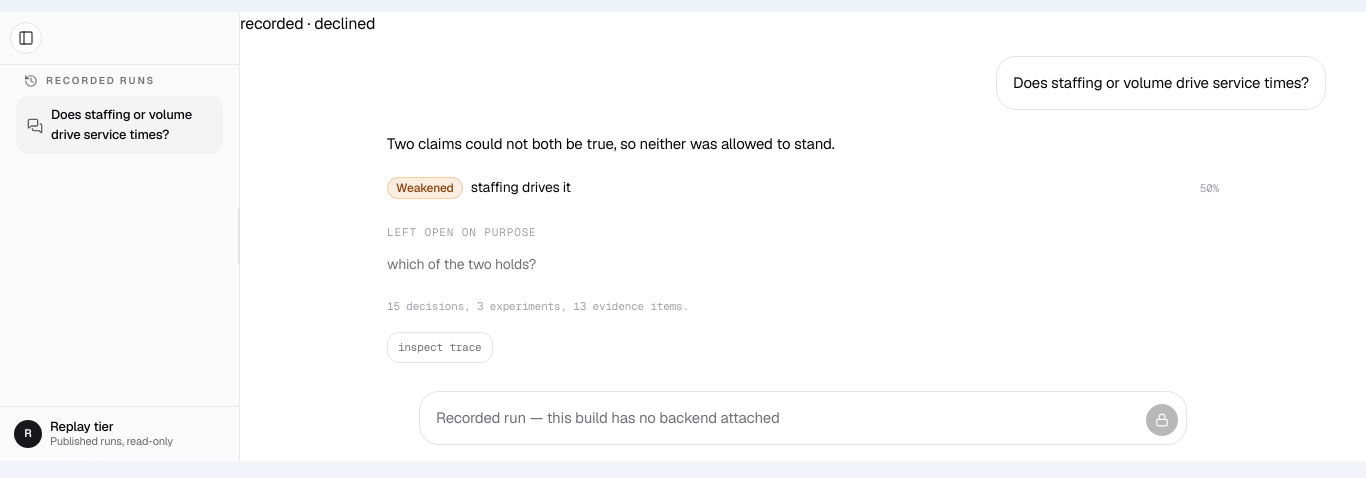
Test: ChatShell › read-only (replay tier) › keeps the trace collapsed until the answer's control asks for it
Expected: the text "The trace" is not shown
What coordinates should you click on to do the following:
click the button "inspect trace"
I would click on:
 (440, 347)
Its box is [387,332,492,362].
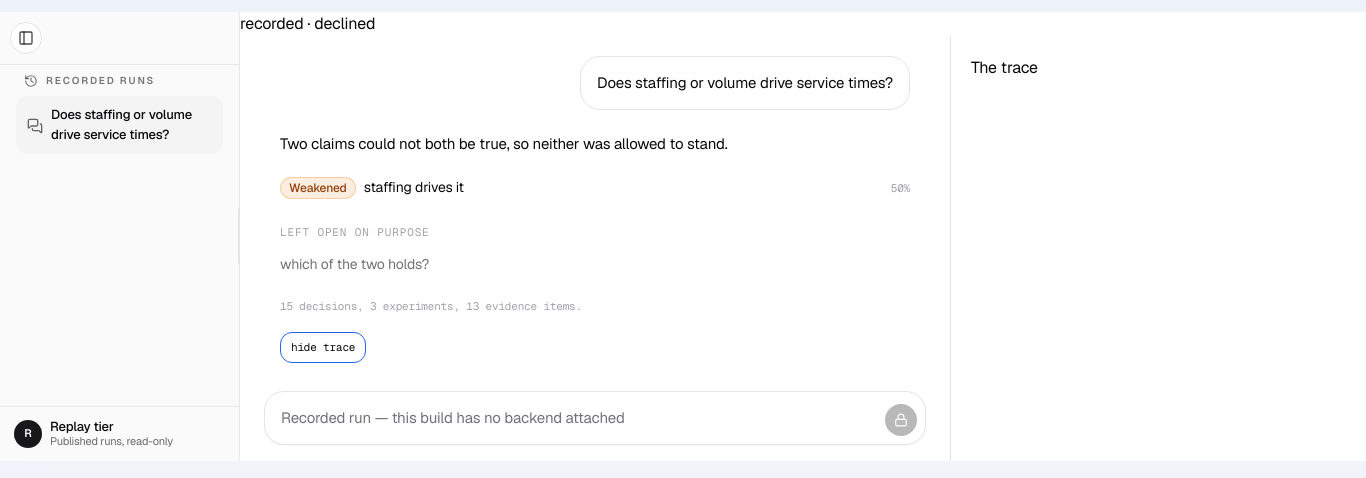
Expected: the text "The trace" is shown, [971,57,1038,78]
